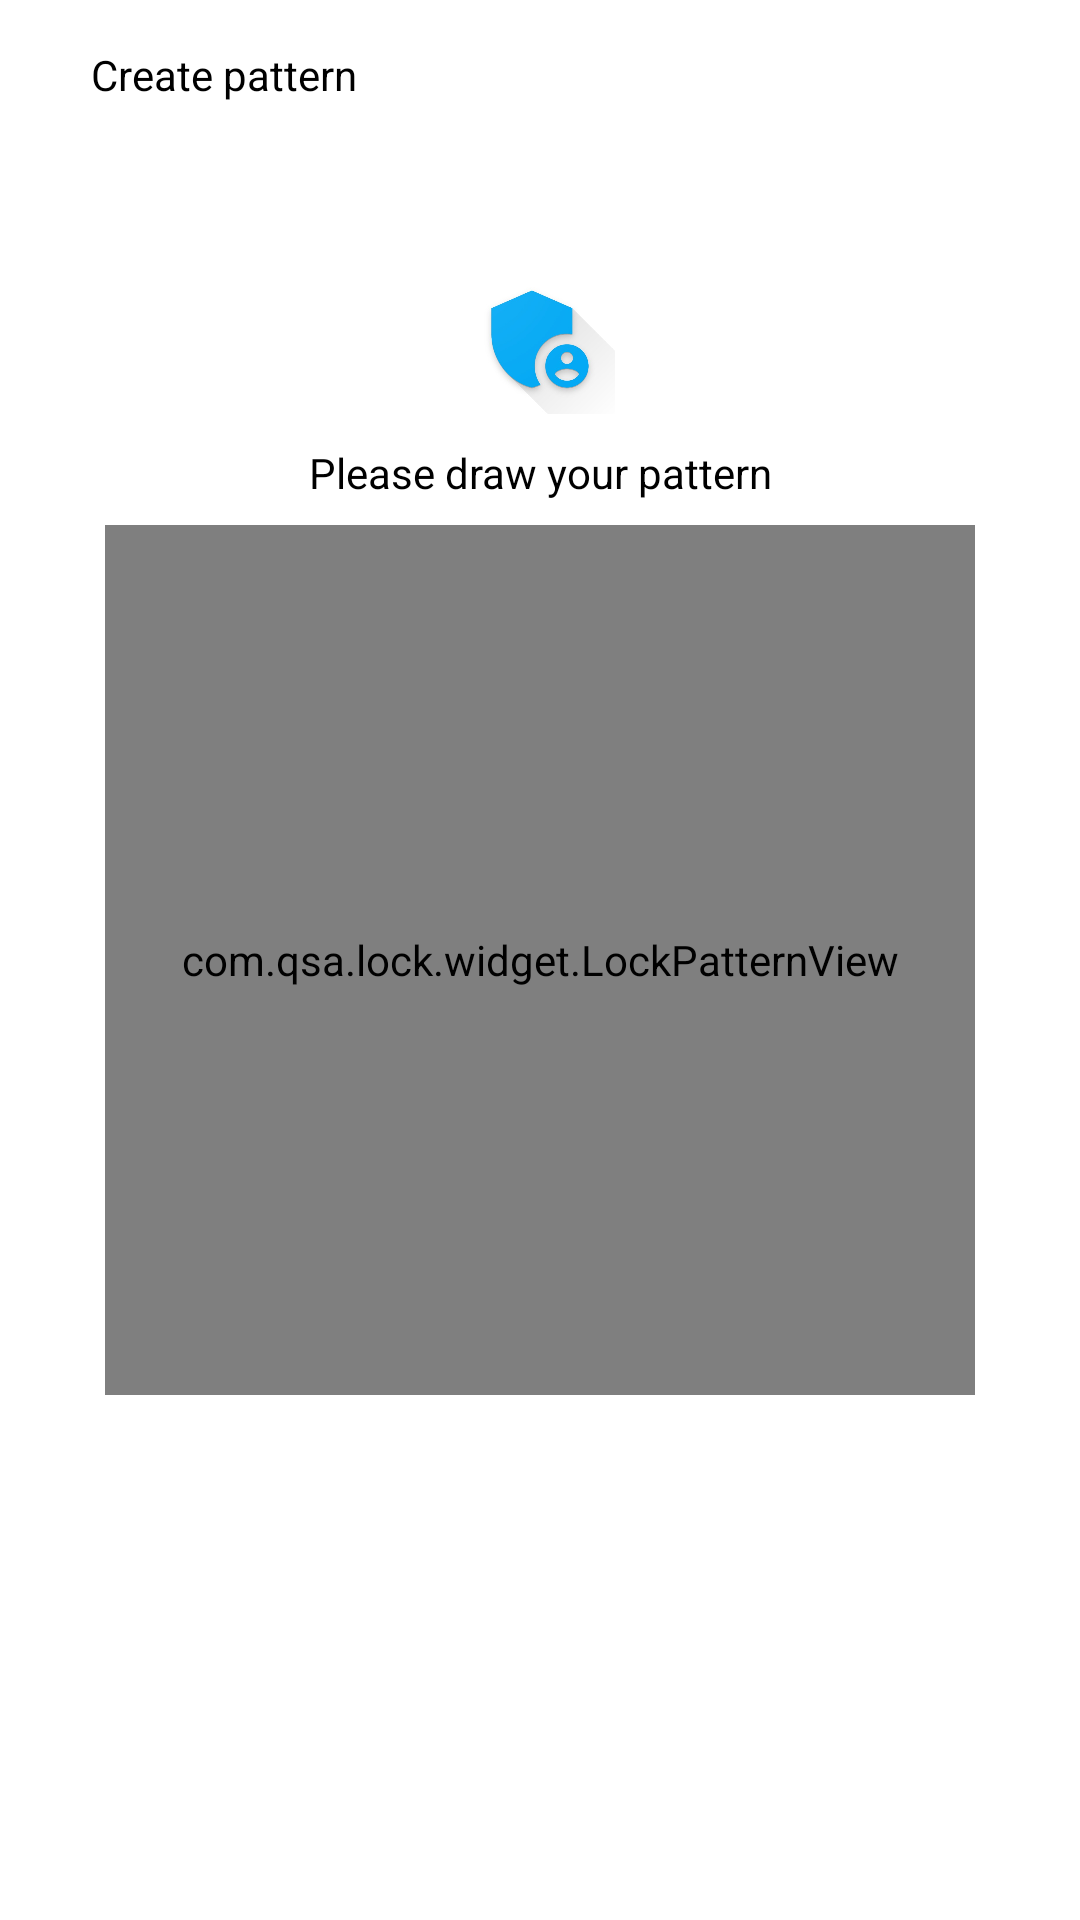

Icon bounding boxes for this 1080x1920 phone screenshot, format (x1=x1, y1=y1, x2=x2, y2=y2):
applock: (x1=491, y1=290, x2=591, y2=394)
